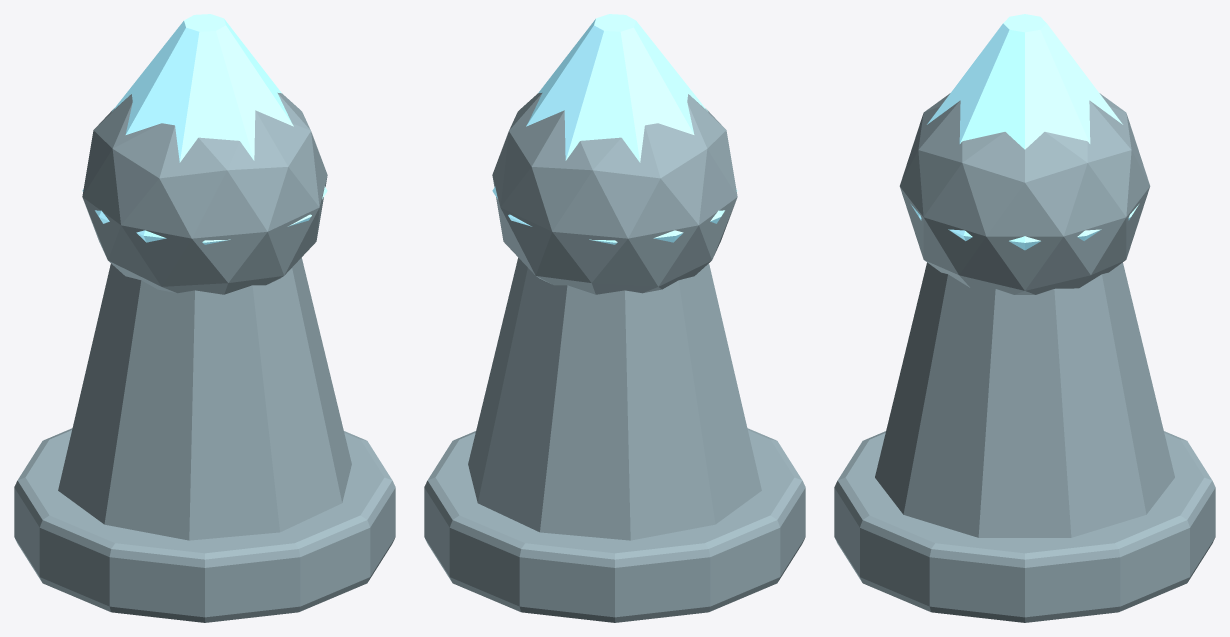
File: item_hnefatafl_piece.glb
3 views of the same model, side by side, from view 1: azimuth 30°, elevation 25°; view 2: azimuth 150°, elevation 25°; view 3: azimuth 270°, elevation 25° (orthographic).
Visible parts, largest first — view 1: Carved body, Game piece base, Carved head, Frozen crown; view 2: Carved body, Game piece base, Carved head, Frozen crown; view 3: Carved body, Game piece base, Carved head, Frozen crown, Ice band.
Boxes of the visible parts, x1,y1,x2,y2 form: Carved body: [58, 257, 351, 540]; Game piece base: [14, 428, 395, 622]; Carved head: [82, 92, 327, 294]; Frozen crown: [112, 14, 293, 162]; Carved body: [468, 257, 761, 540]; Game piece base: [424, 428, 805, 622]; Carved head: [492, 92, 737, 294]; Frozen crown: [526, 14, 707, 162]; Carved body: [875, 262, 1174, 537]; Game piece base: [834, 431, 1215, 622]; Carved head: [899, 93, 1150, 294]; Frozen crown: [927, 14, 1122, 149]; Ice band: [911, 204, 1138, 250].
Size of the model in its own units: 0.07 by 0.106 by 0.07.
